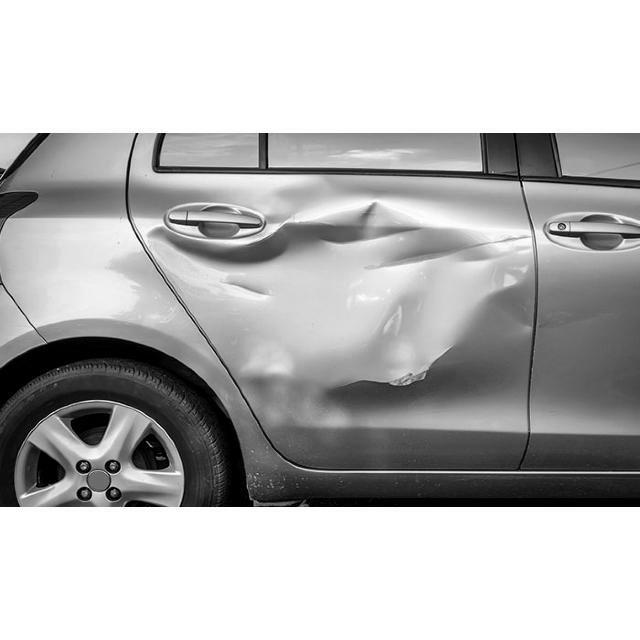doorouter-dent: (158, 193, 538, 405)
